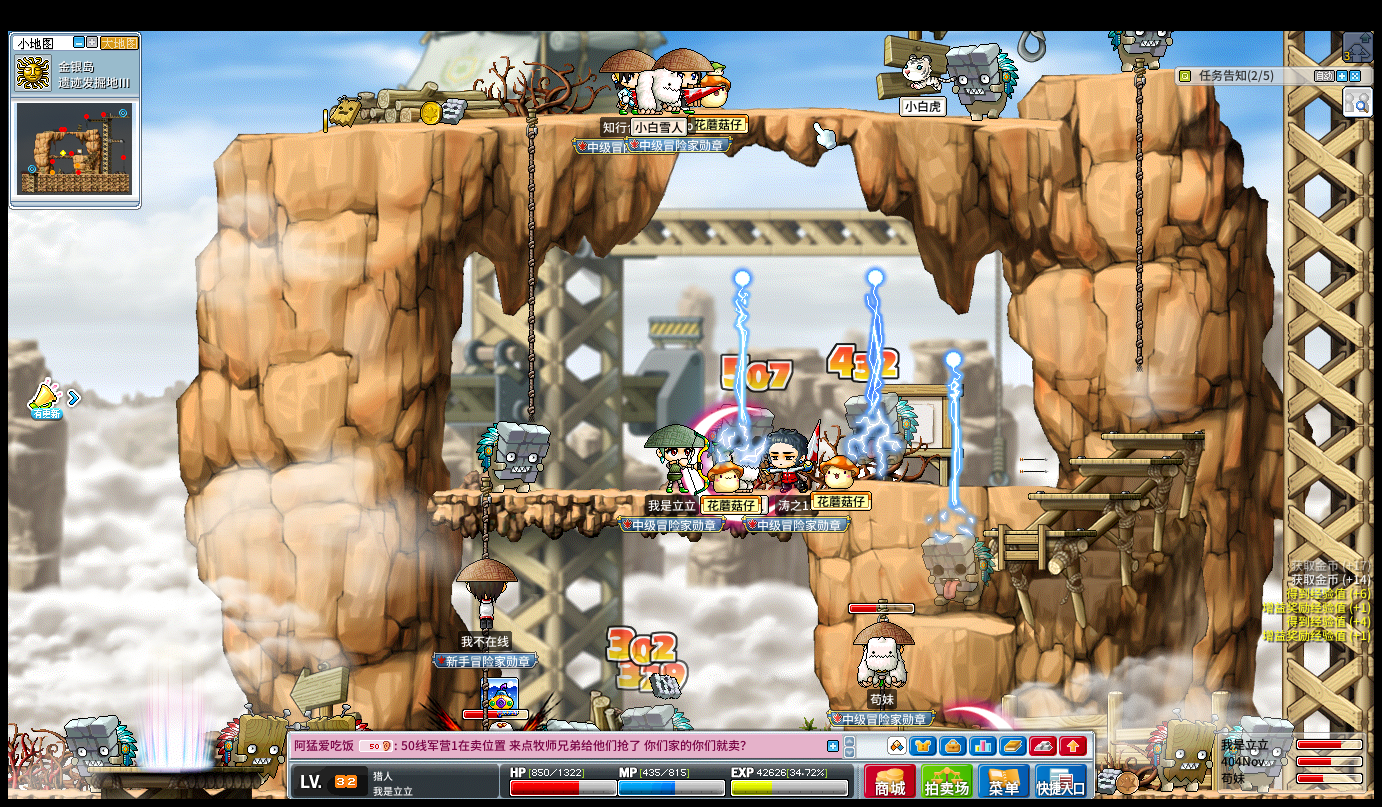floor: (223, 104, 1071, 141), (430, 488, 816, 499), (434, 487, 683, 499), (904, 612, 1016, 633), (872, 480, 1059, 491), (1042, 68, 1186, 81), (1045, 66, 1178, 78), (1100, 429, 1206, 441), (1064, 456, 1179, 464), (1028, 492, 1141, 500), (989, 528, 1095, 536)
monster: (919, 531, 996, 615), (214, 707, 292, 787), (847, 393, 919, 476), (1147, 713, 1224, 790), (475, 420, 552, 493), (948, 41, 1019, 120), (1222, 717, 1293, 792), (65, 714, 137, 769)
rope: (1131, 56, 1147, 382), (525, 102, 536, 420), (476, 482, 492, 560)
